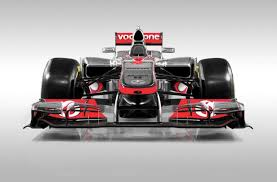f1_car: (19, 20, 268, 144)
